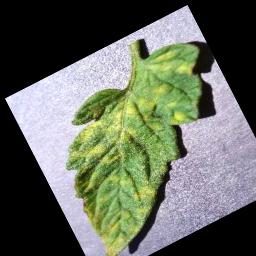Leaf_Mold: (32, 70, 214, 256), (142, 40, 201, 93), (165, 106, 190, 129), (150, 80, 173, 100)
